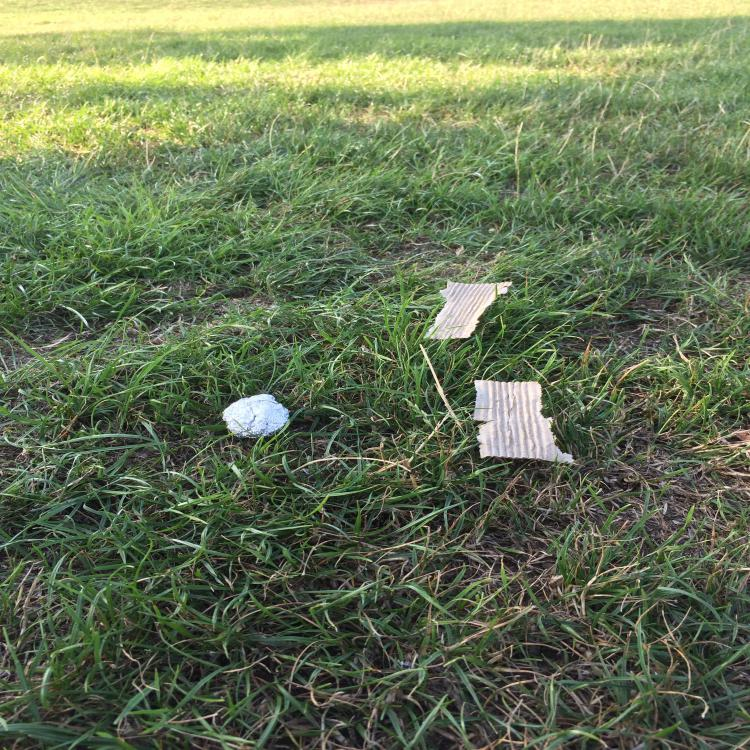Aluminium foil: (222, 394, 289, 438)
Corrugated carton: (474, 380, 574, 463), (423, 282, 512, 340)
